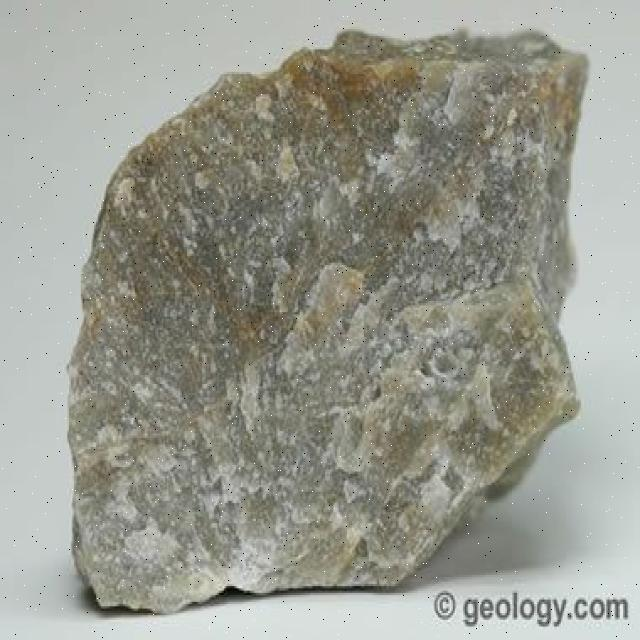Metamorphic: (68, 7, 592, 590)
